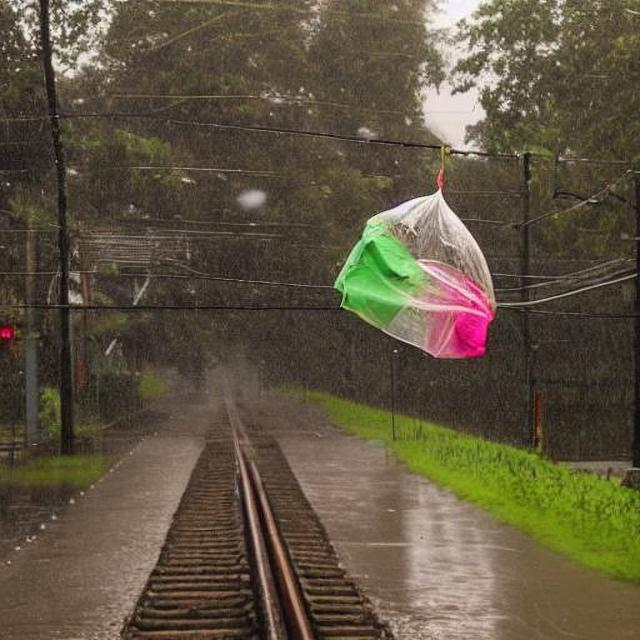floating object: (339, 170, 497, 356)
